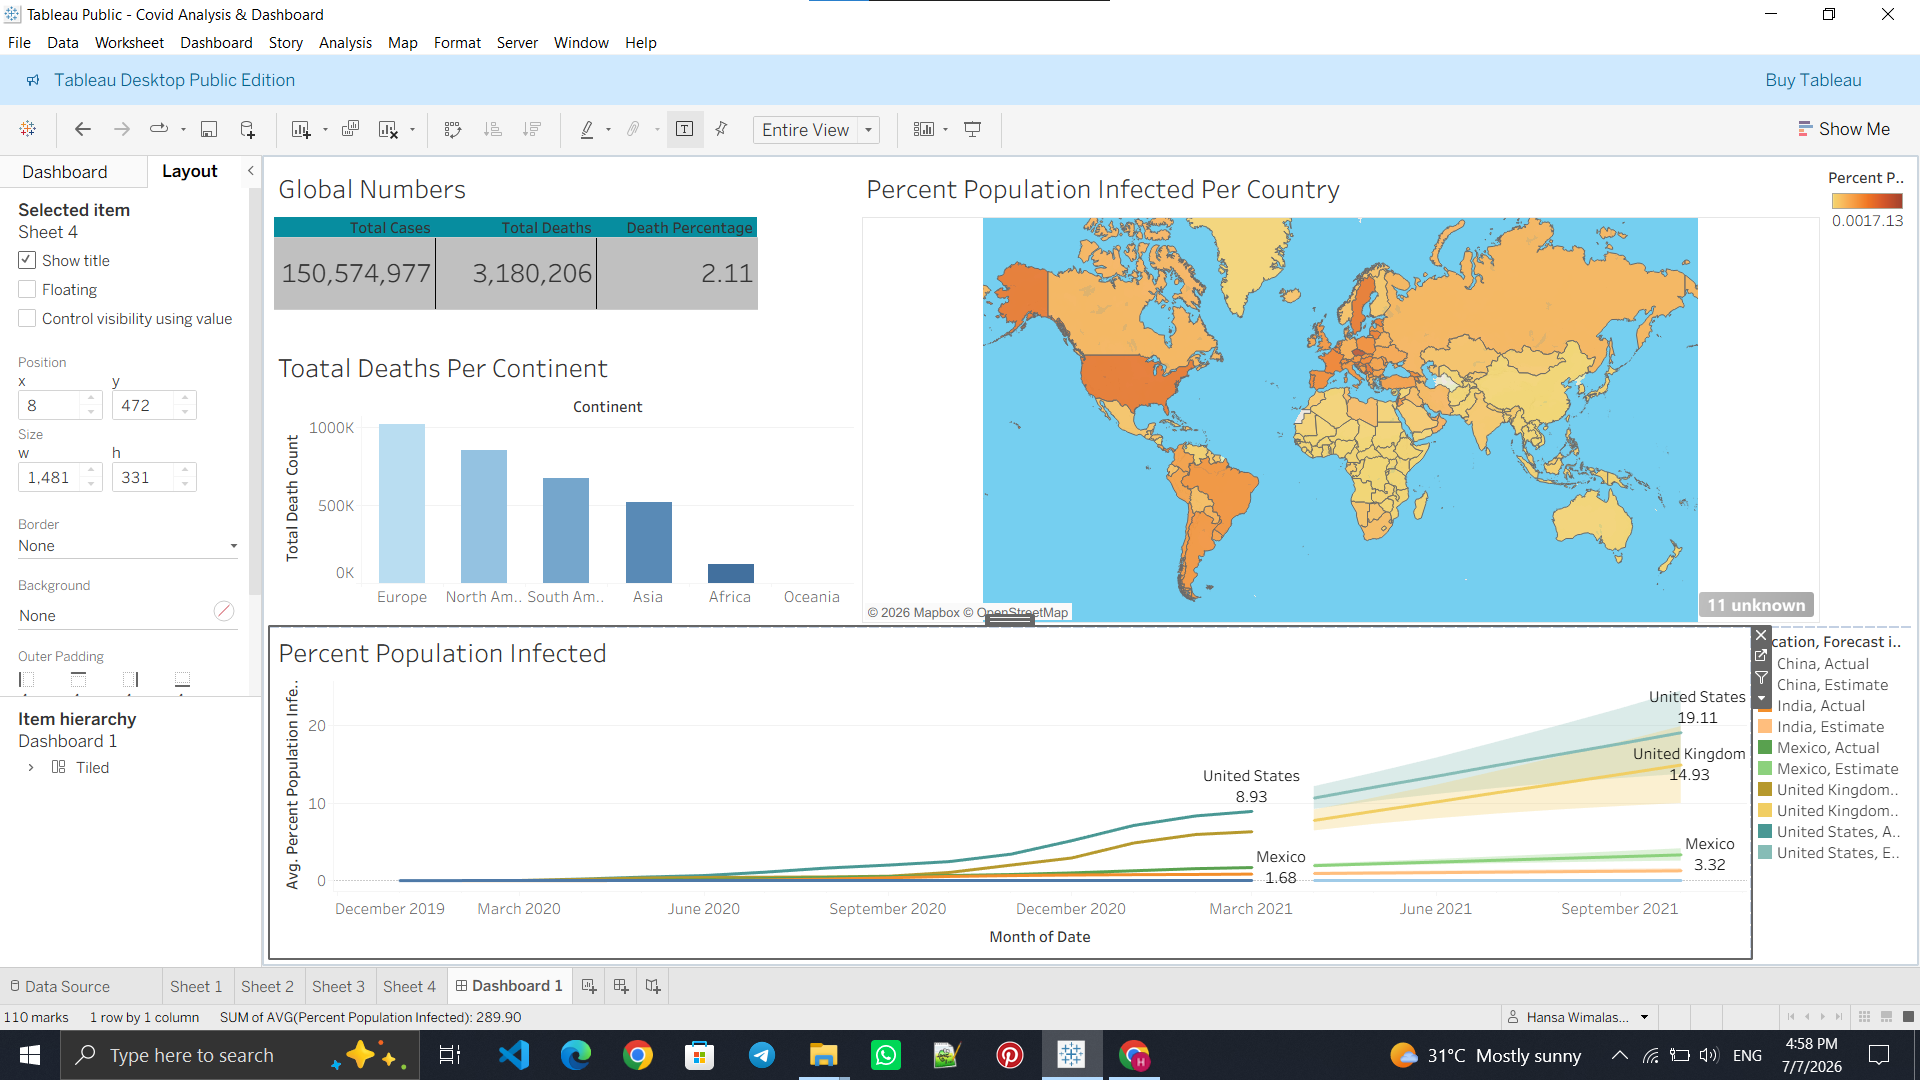

Layout of this report page (visuals, bound fields, positions):
{"tool":"tableau","page":{"name":"Dashboard 1","canvas":[1000,1000],"units":"permille","ordinal":0},"visuals":[{"type":"worksheet","title":"Sheet 1","mark":"Automatic","box":[4.2,9.9,345.3,220.7]},{"type":"worksheet","title":"Sheet 3","mark":"Automatic","box":[349.5,9.9,567.3,572.1]},{"type":"legend","title":"Sheet 3","param":"[federated.16s7ntm0sp9a7o1ca7p340x31g2j].[sum:PercentPopulationInfected:qk]","box":[916.8,9.9,78.9,90]},{"type":"worksheet","title":"Sheet 2","mark":"Automatic","rows":["TotalDeathCount"],"cols":["location"],"box":[4.2,230.6,345.3,351.4]},{"type":"worksheet","title":"Sheet 4","mark":"Automatic","rows":["PercentPopulationInfected"],"cols":["date"],"box":[4.2,582,894.8,408.1]},{"type":"legend","title":"Sheet 4","param":"[federated.16e3cpi1dczkk115o42hs139qter].[none:Location:nk]\n[federated.16e3cpi1d","box":[899.1,582,96.7,408.1]}]}

Visuals, with their boxes on the dashboard's canvas, which has no fixed pixel size, in thousandths of its width and height (x1, y1, x2, y2). These are canvas units, not pixel positions in the 1920x1080 screenshot, which may show the page scaled, cropped or inside an application window:
"Sheet 1" worksheet: box=[4, 10, 350, 231]
"Sheet 3" worksheet: box=[350, 10, 917, 582]
"Sheet 3" legend: box=[917, 10, 996, 100]
"Sheet 2" worksheet: box=[4, 231, 350, 582]
"Sheet 4" worksheet: box=[4, 582, 899, 990]
"Sheet 4" legend: box=[899, 582, 996, 990]
